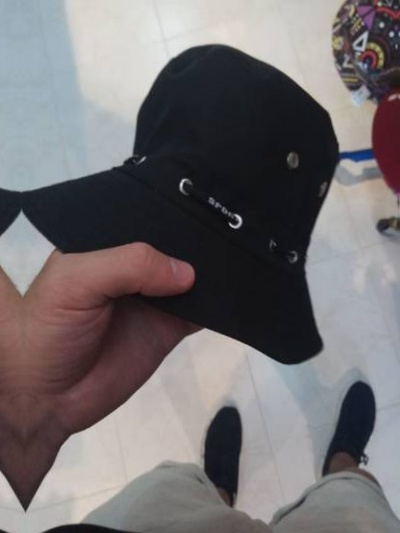Hat: (27, 29, 343, 387), (0, 34, 15, 391)
